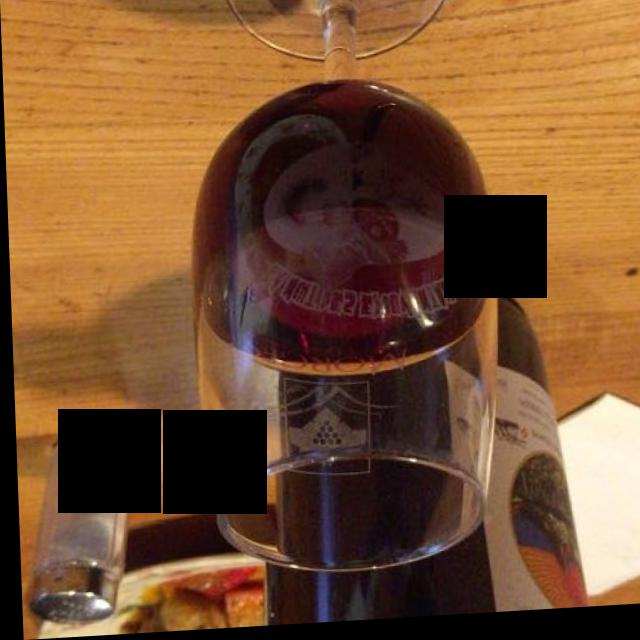wine-red: (215, 98, 473, 374)
